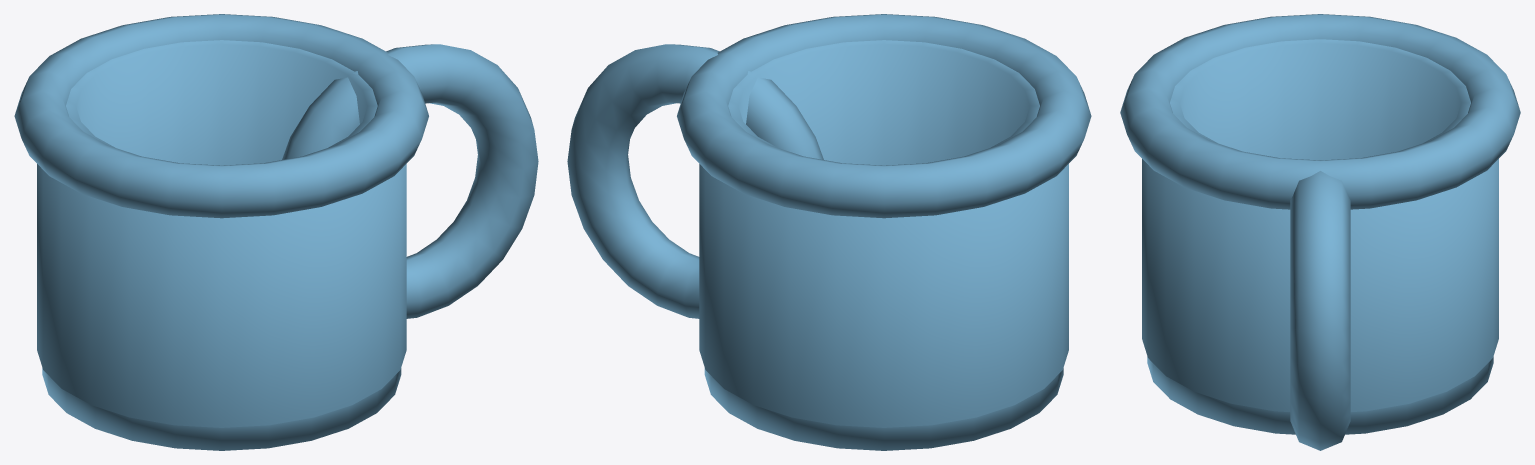
File: ava-opposite-empty.glb
The picture shows the model from 3 angles, left to right: view 1: azimuth 30°, elevation 25°; view 2: azimuth 150°, elevation 25°; view 3: azimuth 270°, elevation 25°; orthographic projection. The views are drawn at different scales.
Parts seen in each view (by area): view 1: hollow cup wall, cup rim, cup handle, cup base; view 2: hollow cup wall, cup rim, cup handle, cup base; view 3: hollow cup wall, cup rim, cup handle, cup base.
Boxes of the visible parts, x1,y1,x2,y2 form: hollow cup wall: (37,40,406,427); cup rim: (14,14,428,218); cup handle: (282,44,538,318); cup base: (42,368,401,450); hollow cup wall: (699,40,1068,427); cup rim: (677,14,1091,218); cup handle: (567,44,823,318); cup base: (704,368,1063,450); hollow cup wall: (1142,39,1498,411); cup rim: (1120,14,1520,209); cup handle: (1290,171,1350,450); cup base: (1147,357,1493,434).
Size of the model in its own units: 0.508 by 0.28 by 0.37.
